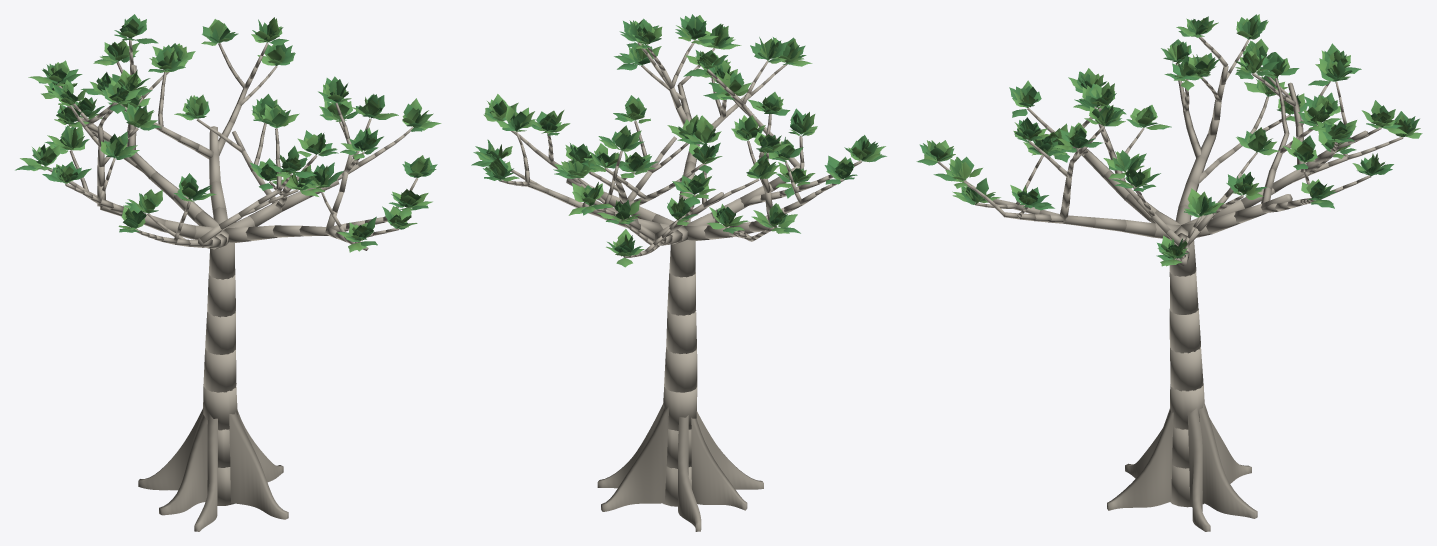
Rendered from tree_buttress.7e68fdea.glb.
3 renders of one model, left to right at view 1: azimuth 30°, elevation 25°; view 2: azimuth 150°, elevation 25°; view 3: azimuth 270°, elevation 25°, orthographic.
Parts seen in each view (by area): view 1: tree_buttress; view 2: tree_buttress; view 3: tree_buttress.
Boxes of the visible parts, x1,y1,x2,y2 form: tree_buttress: [15, 14, 441, 531]; tree_buttress: [471, 14, 886, 531]; tree_buttress: [916, 14, 1422, 531].
Bounding box in the file's own units: 13.81 × 14.78 × 15.61.
